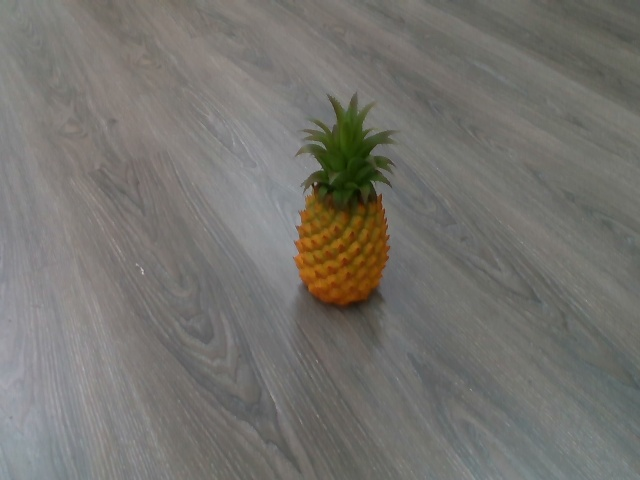pineapple: (286, 88, 406, 316)
